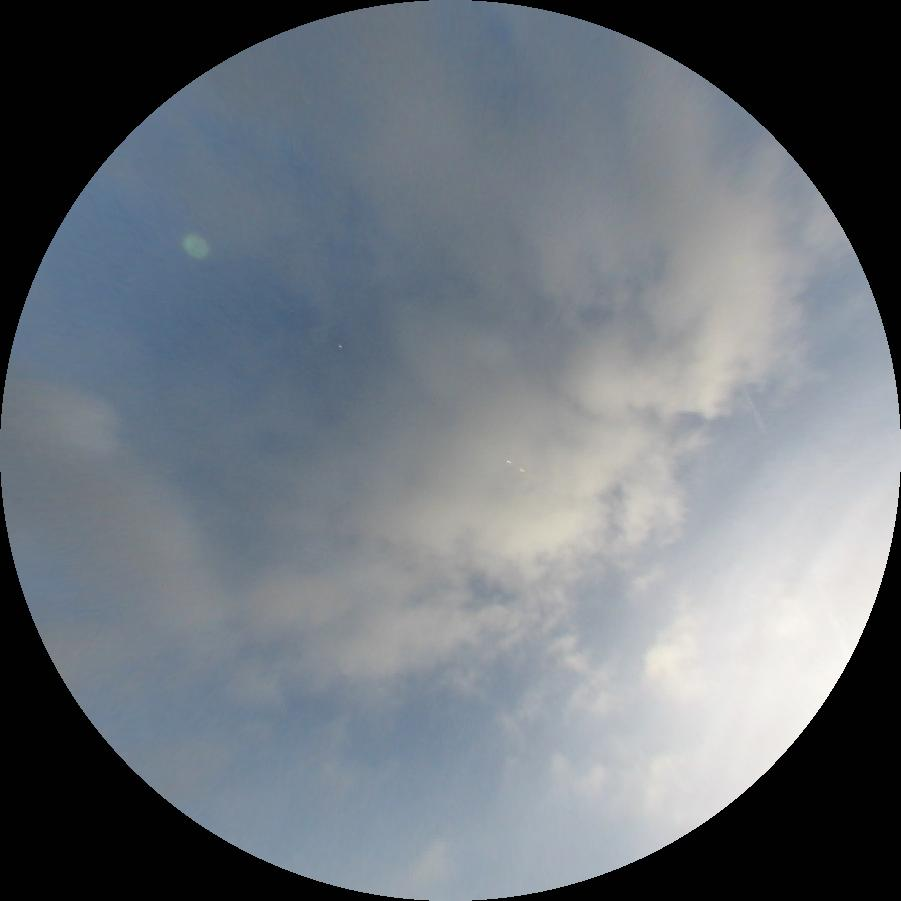contrail young: (742, 390, 769, 433)
